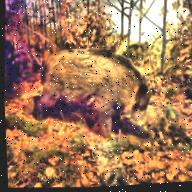boar: (20, 15, 163, 158)
